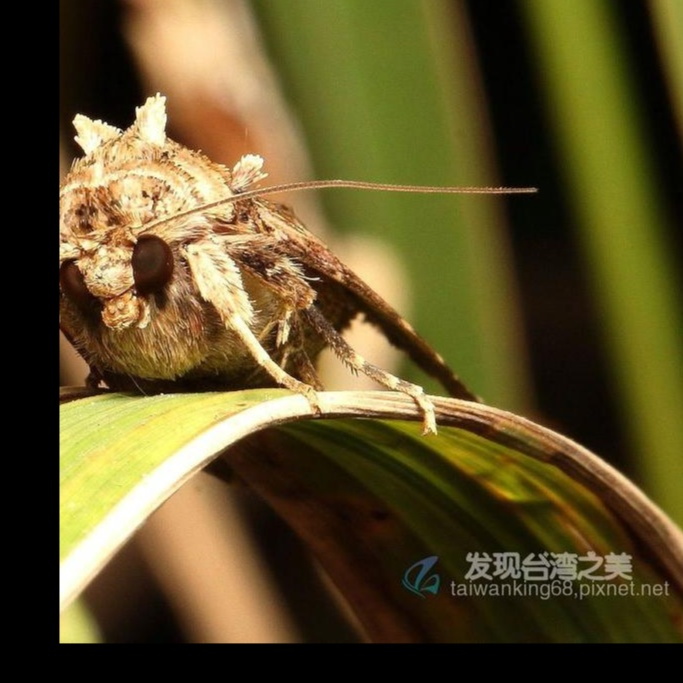Spodoptera litura: (60, 92, 538, 436)
